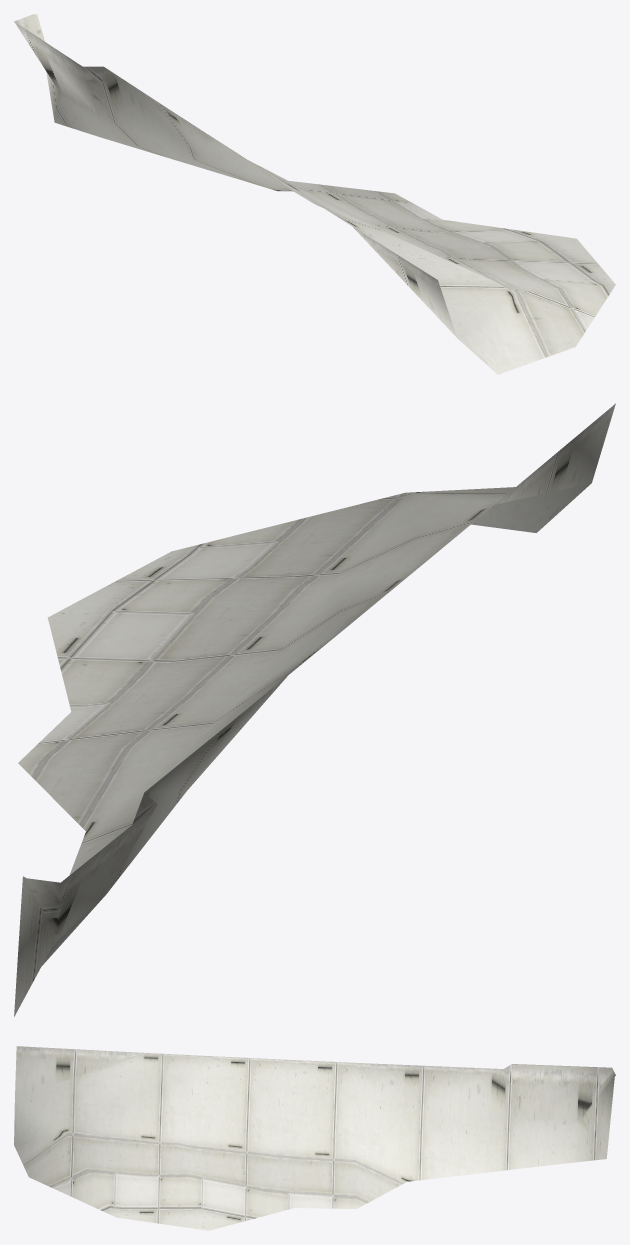
File: STA20_51.FBX
3 renders of one model, top to bottom at view 1: azimuth 30°, elevation 25°; view 2: azimuth 150°, elevation 25°; view 3: azimuth 270°, elevation 25°, orthographic. The views are drawn at different scales.
Visible parts, largest first — view 1: STA20_51; view 2: STA20_51; view 3: STA20_51.
Boxes of the visible parts, left/top/right/bottom form: STA20_51: left=14, top=14, right=615, bottom=374; STA20_51: left=14, top=403, right=615, bottom=1016; STA20_51: left=14, top=1046, right=615, bottom=1230.
Bounding box in the file's own units: 28.48 × 13.74 × 71.27.
